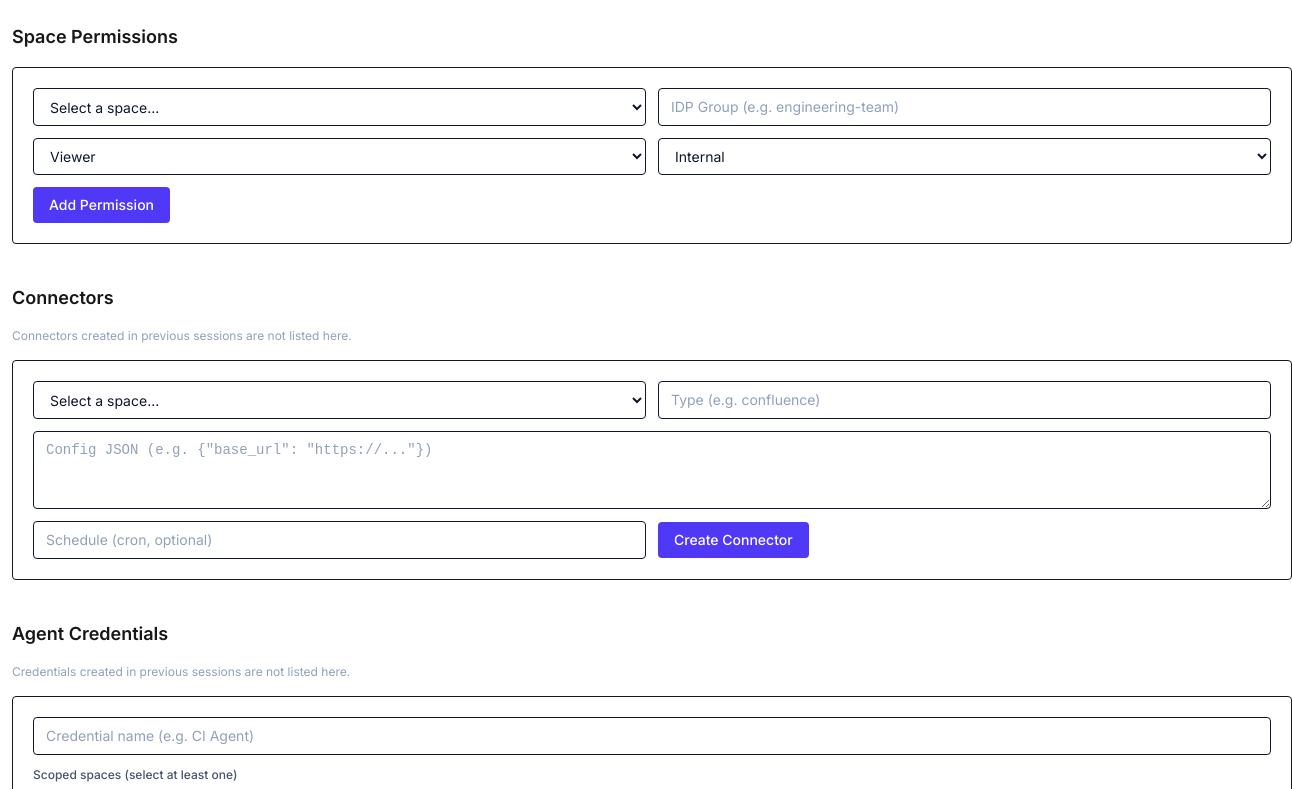
Test: Admin page — Connectors section › shows JSON validation error when config is not valid JSON
The image size is (1292, 789).
(page scrolled)
Check: the field with placeholder "Type (e.g. confluence)" is shown, box [658,381,1271,419]
Select "Engineering" in the 4th dropdown at (340, 400), box [33,381,646,419]
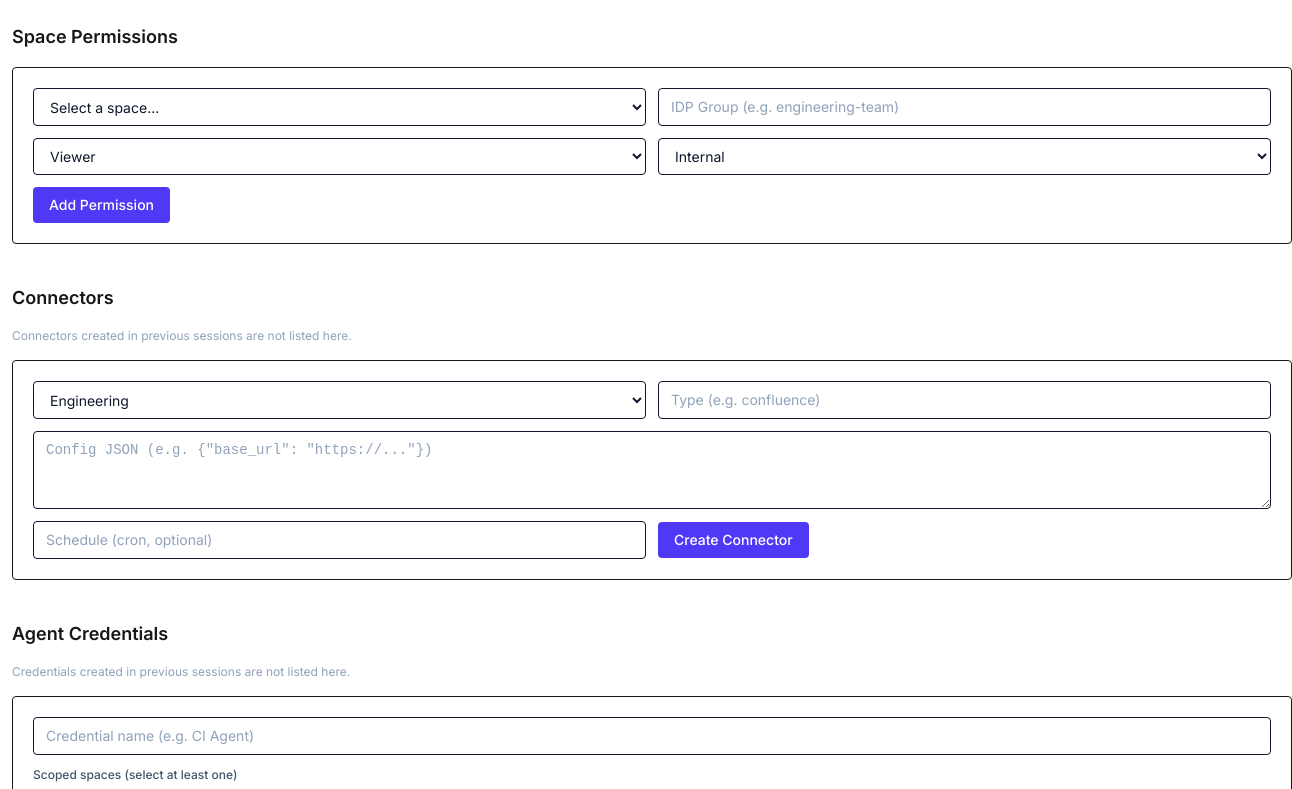
Type "confluence" into the field with placeholder "Type (e.g. confluence)".
click(964, 400); type("confluence")  # box [658,381,1271,419]
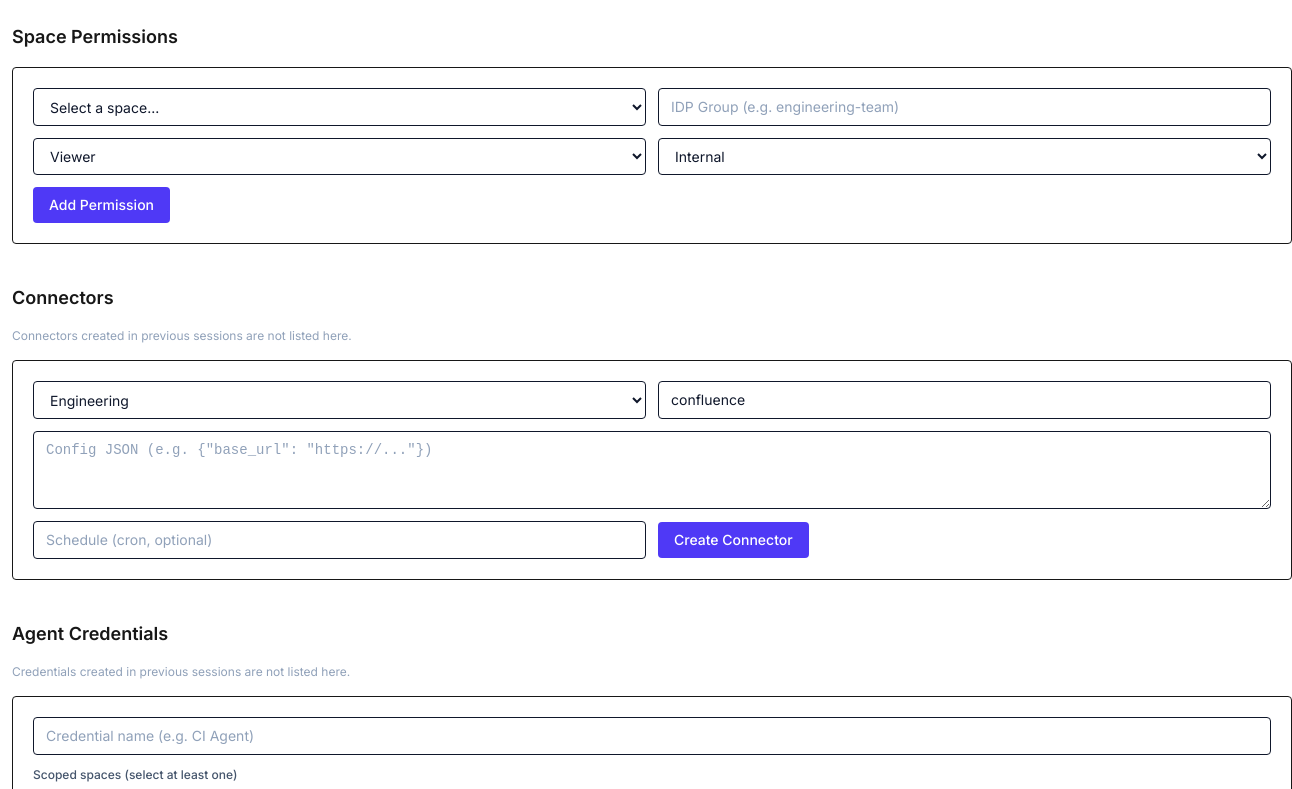
Type "not-json" into the text box with placeholder "Config JSON (e.g. {\"base_url\": \"https://...\"})".
click(652, 470); type("not-json")  # box [33,431,1271,509]
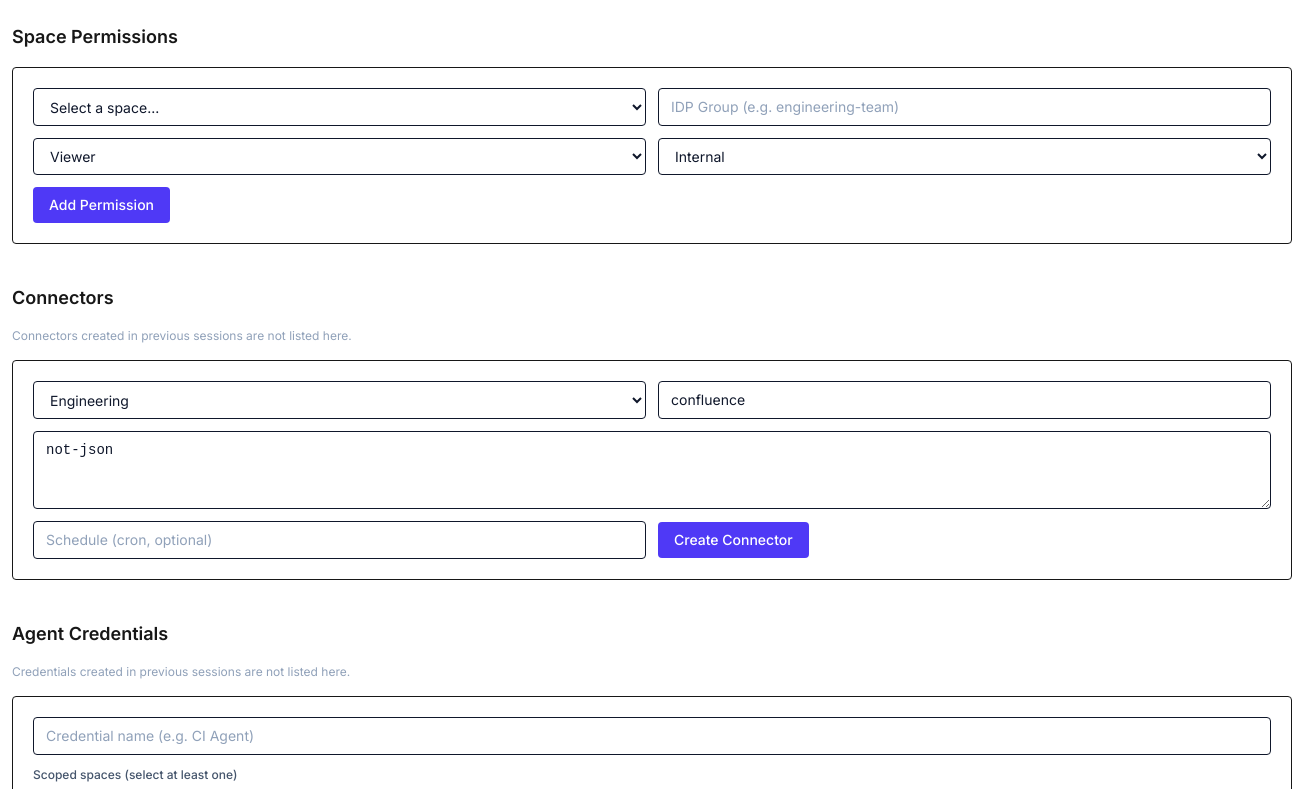
Click the button "Create Connector".
click(733, 540)  # box [658,522,809,558]
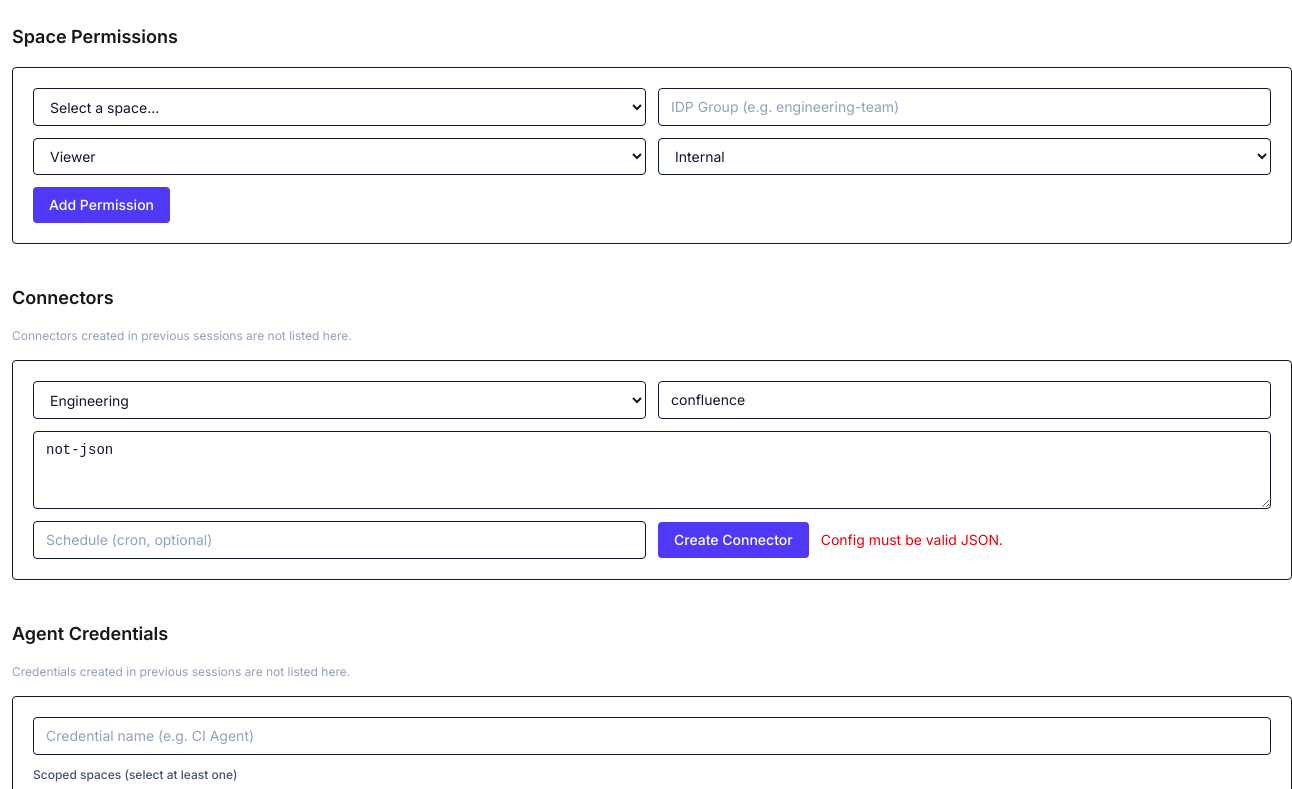
Check: the text "Config must be valid JSON." is shown, box [821,530,1003,550]
